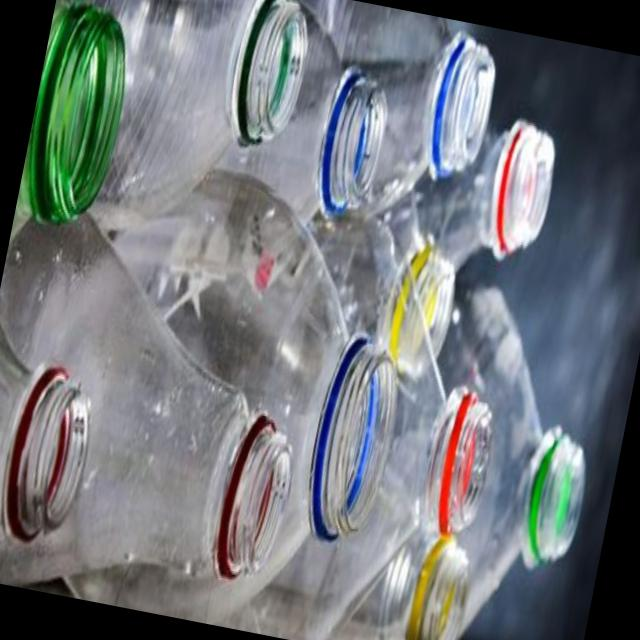general: (0, 192, 337, 634)
